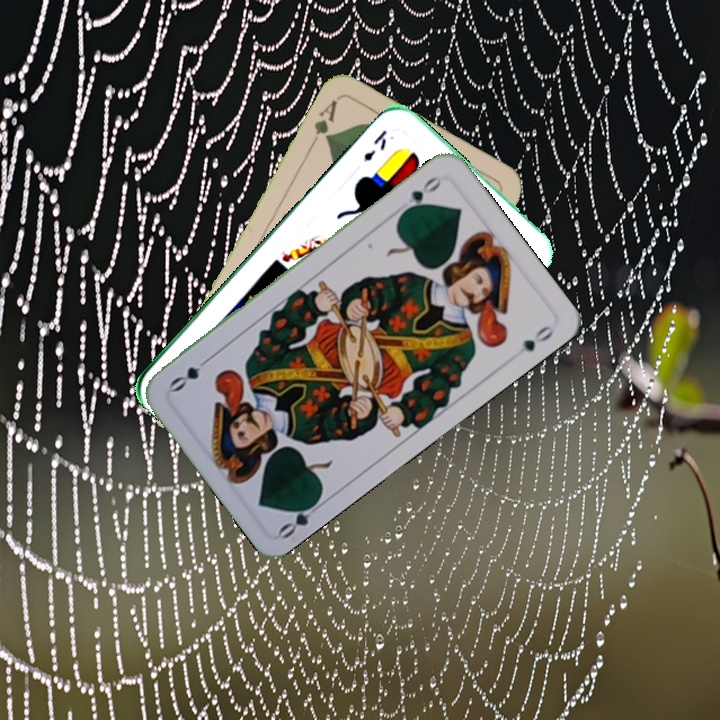EK: (360, 125, 390, 164)
GA: (306, 95, 340, 150)
GO: (275, 494, 327, 542), (398, 172, 446, 217)
